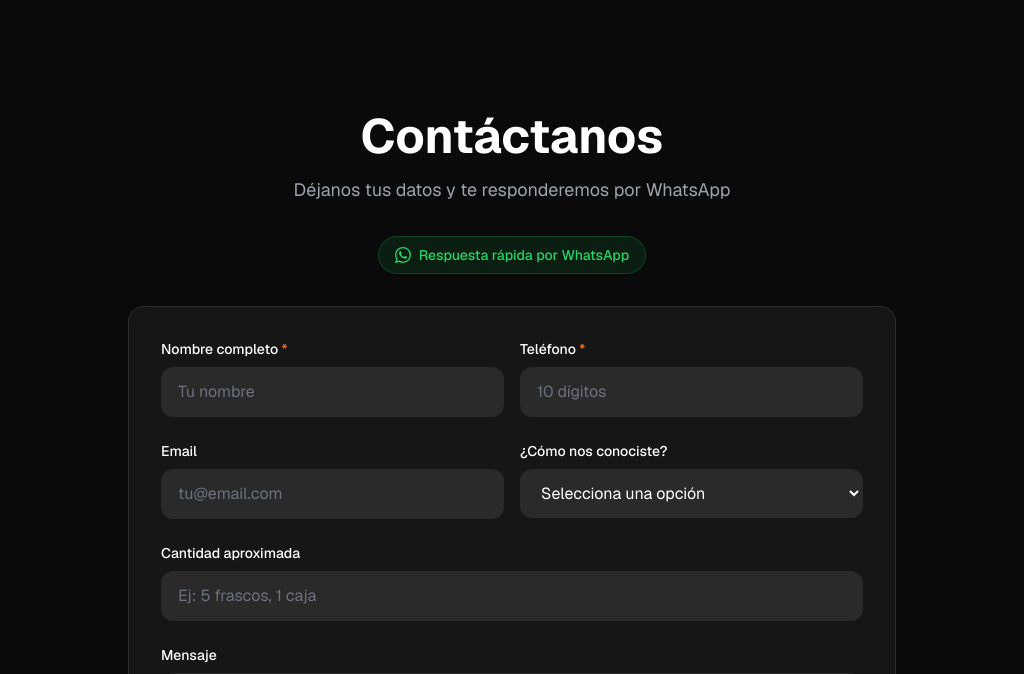
Test: ContactForm › Form Validation › shows error when name is empty
Type "1234567890" into the field labelled "Teléfono *".
click(692, 392); type("1234567890")  # box left=520, top=367, right=863, bottom=417
(page scrolled)
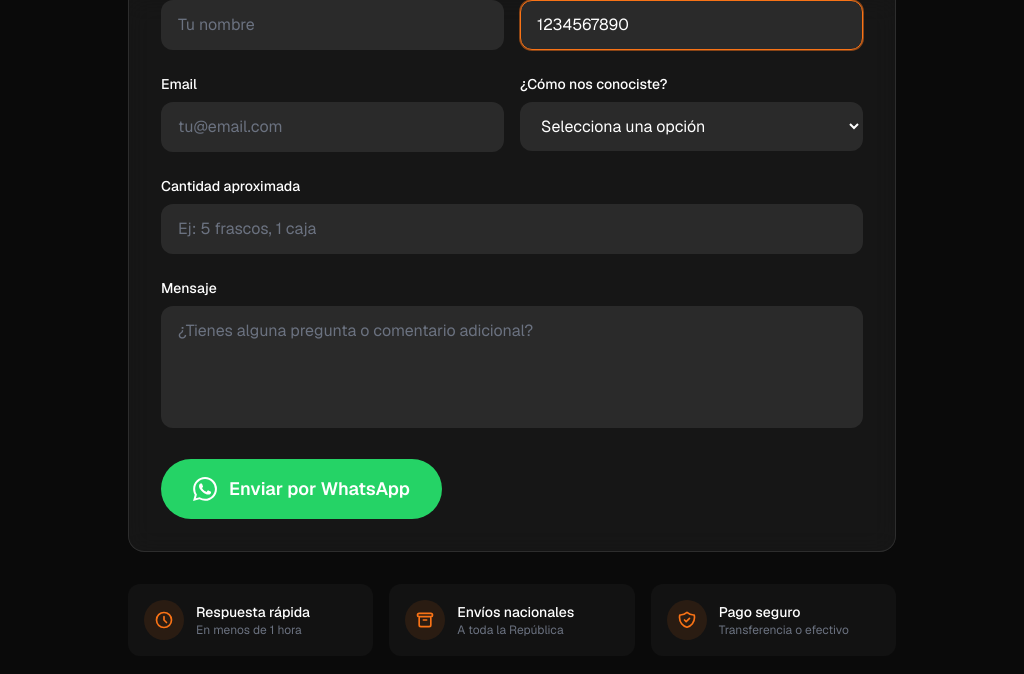
Click the button "Enviar por WhatsApp".
click(302, 489)  # box left=161, top=459, right=442, bottom=519
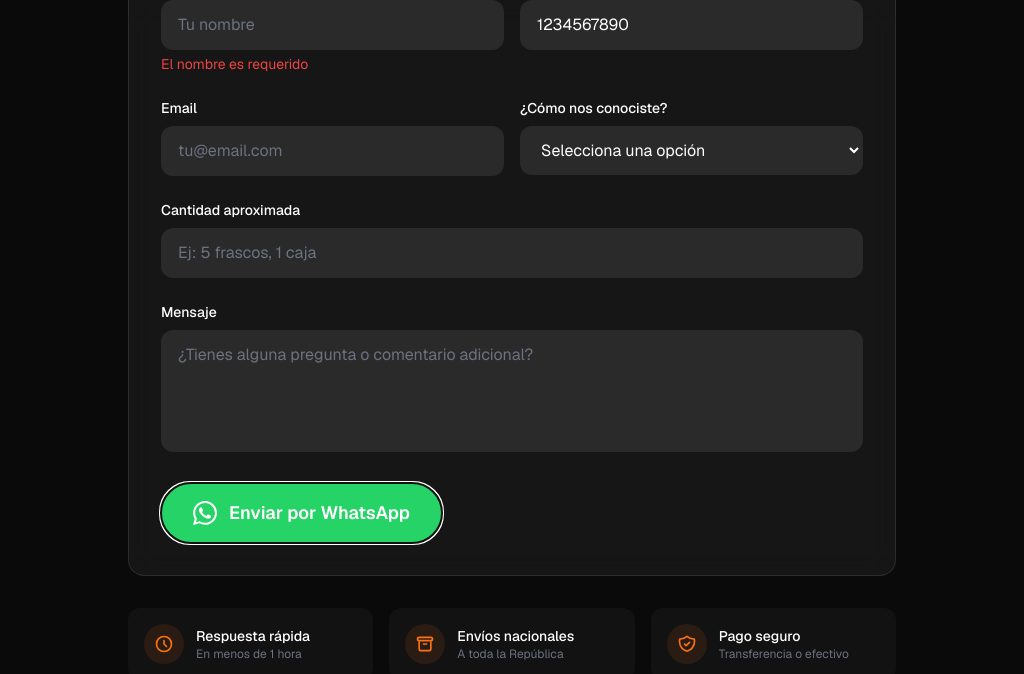
Expected: the text "El nombre es requerido" is shown, left=161, top=55, right=308, bottom=73
